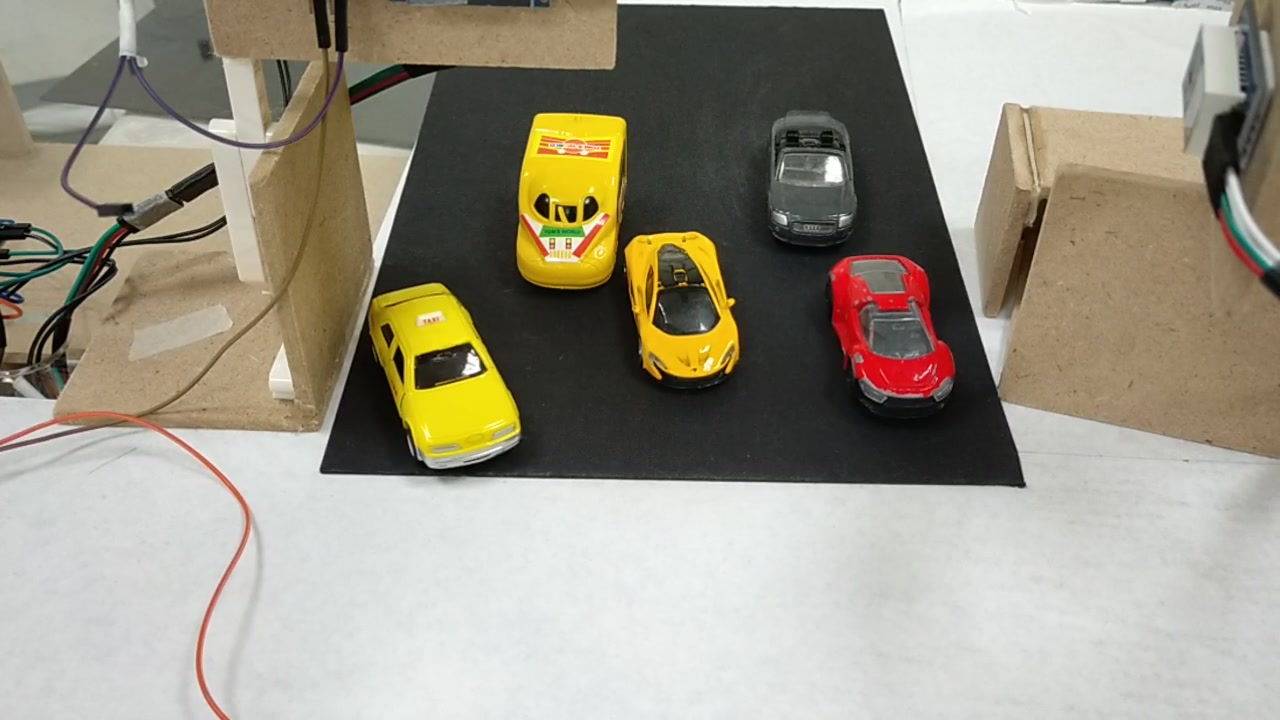car: (360, 283, 521, 472), (832, 258, 953, 414), (620, 234, 740, 386), (761, 112, 859, 243)
